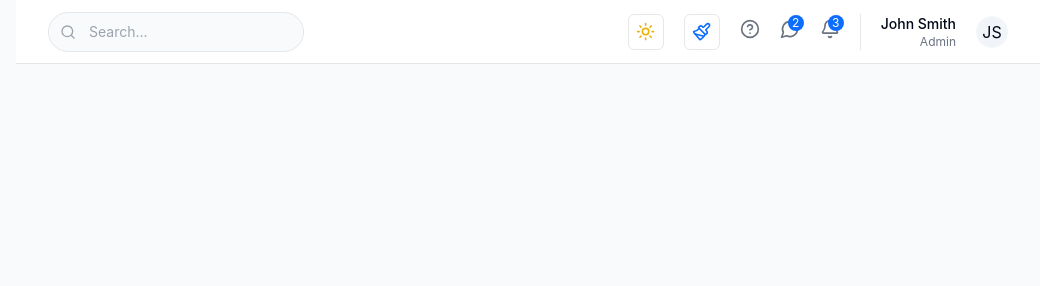
Test: Header Component › navigates to profile page when profile link is clicked
// Click the avatar to open the dropdown
Click the text "JS".
click(992, 32)  # box [976,16,1008,48]
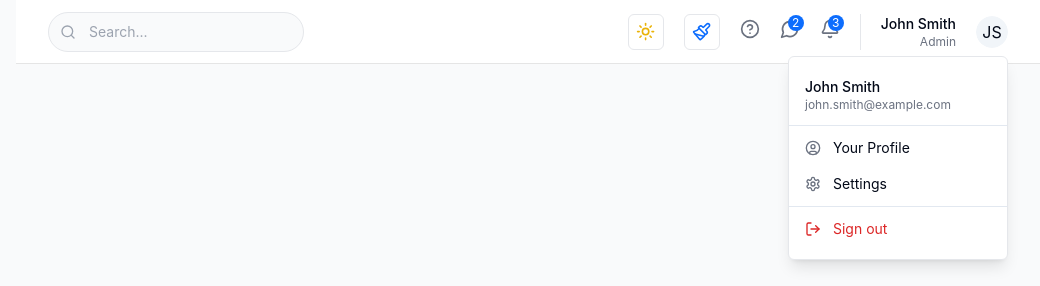
Check: the link "Your Profile" is shown, box [805,138,910,156]
